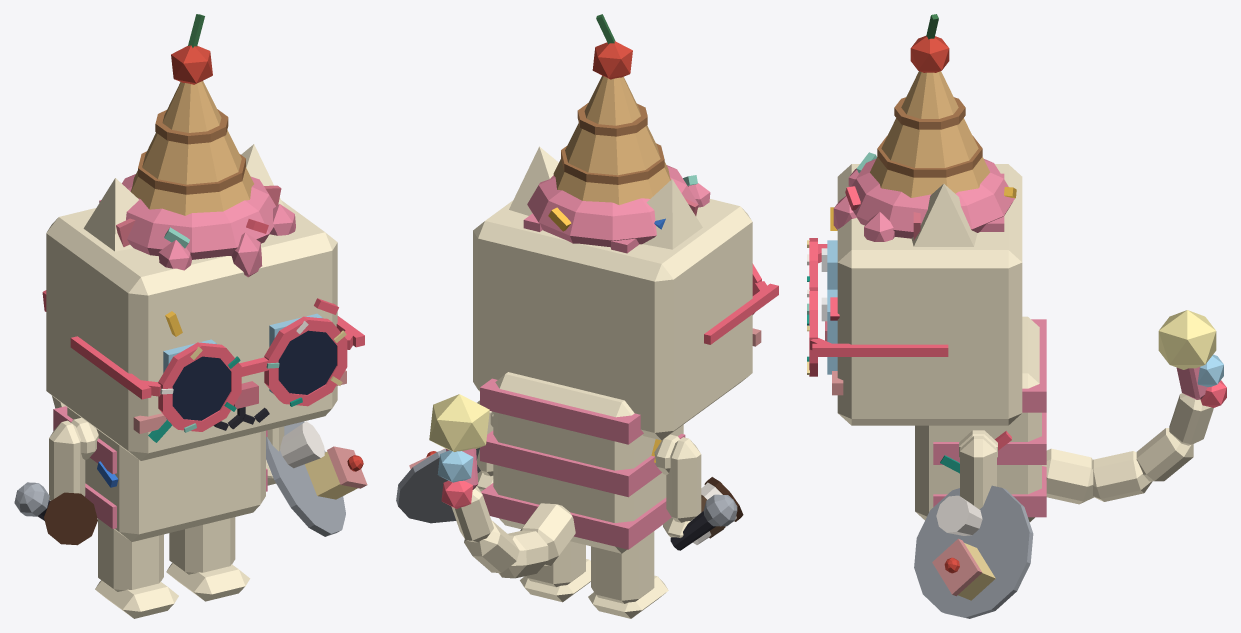
The model's file is CatCafe_Cat_Comet_Work.glb.
3 views of the same model, side by side, from view 1: azimuth 30°, elevation 25°; view 2: azimuth 150°, elevation 25°; view 3: azimuth 270°, elevation 25° (orthographic). The views are drawn at different scales.
Visible parts, largest first — view 1: CatCafe_Cat_Comet_Work_Head, CatCafe_Cat_Comet_Work_Prop, CatCafe_Cat_Comet_Work_Body, CatCafe_Cat_Comet_Work_Prop2, CatCafe_Cat_Comet_Work_Held_Waiter, CatCafe_Cat_Comet_Work_LegB2, CatCafe_Cat_Comet_Work_LegB1, CatCafe_Cat_Comet_Work_LegF2, CatCafe_Cat_Comet_Work_EarR, CatCafe_Cat_Comet_Work_Held_Barista, CatCafe_Cat_Comet_Work_Held_Entertainer, CatCafe_Cat_Comet_Work_EarL; view 2: CatCafe_Cat_Comet_Work_Head, CatCafe_Cat_Comet_Work_Body, CatCafe_Cat_Comet_Work_Prop, CatCafe_Cat_Comet_Work_Tail, CatCafe_Cat_Comet_Work_LegB2, CatCafe_Cat_Comet_Work_Tail_Glow, CatCafe_Cat_Comet_Work_LegF2, CatCafe_Cat_Comet_Work_Held_Waiter, CatCafe_Cat_Comet_Work_LegB1, CatCafe_Cat_Comet_Work_EarR, CatCafe_Cat_Comet_Work_Held_Entertainer, CatCafe_Cat_Comet_Work_Prop2 (+3 smaller); view 3: CatCafe_Cat_Comet_Work_Head, CatCafe_Cat_Comet_Work_Prop, CatCafe_Cat_Comet_Work_Held_Waiter, CatCafe_Cat_Comet_Work_Body, CatCafe_Cat_Comet_Work_Tail, CatCafe_Cat_Comet_Work_Tail_Glow, CatCafe_Cat_Comet_Work_Prop2, CatCafe_Cat_Comet_Work_EarL, CatCafe_Cat_Comet_Work_LegF1, CatCafe_Cat_Comet_Work_Eye1, CatCafe_Cat_Comet_Work_Eye2.
Boxes of the visible parts, <box> form: CatCafe_Cat_Comet_Work_Head: <box>46,200,346,460</box>; CatCafe_Cat_Comet_Work_Prop: <box>122,14,295,277</box>; CatCafe_Cat_Comet_Work_Body: <box>53,406,267,541</box>; CatCafe_Cat_Comet_Work_Prop2: <box>70,316,364,432</box>; CatCafe_Cat_Comet_Work_Held_Waiter: <box>266,421,367,536</box>; CatCafe_Cat_Comet_Work_LegB2: <box>95,518,178,618</box>; CatCafe_Cat_Comet_Work_LegB1: <box>166,517,250,601</box>; CatCafe_Cat_Comet_Work_LegF2: <box>49,420,85,500</box>; CatCafe_Cat_Comet_Work_EarR: <box>83,178,138,251</box>; CatCafe_Cat_Comet_Work_Held_Barista: <box>44,492,97,545</box>; CatCafe_Cat_Comet_Work_Held_Entertainer: <box>14,482,50,520</box>; CatCafe_Cat_Comet_Work_EarL: <box>241,144,283,206</box>; CatCafe_Cat_Comet_Work_Head: <box>473,199,761,440</box>; CatCafe_Cat_Comet_Work_Body: <box>480,372,685,553</box>; CatCafe_Cat_Comet_Work_Prop: <box>527,14,710,247</box>; CatCafe_Cat_Comet_Work_Tail: <box>446,448,575,578</box>; CatCafe_Cat_Comet_Work_LegB2: <box>588,531,668,618</box>; CatCafe_Cat_Comet_Work_Tail_Glow: <box>429,394,489,508</box>; CatCafe_Cat_Comet_Work_LegF2: <box>663,437,701,537</box>; CatCafe_Cat_Comet_Work_Held_Waiter: <box>396,447,480,523</box>; CatCafe_Cat_Comet_Work_LegB1: <box>520,541,590,602</box>; CatCafe_Cat_Comet_Work_EarR: <box>643,179,702,249</box>; CatCafe_Cat_Comet_Work_Held_Entertainer: <box>670,494,737,550</box>; CatCafe_Cat_Comet_Work_Prop2: <box>704,263,778,344</box>; CatCafe_Cat_Comet_Work_Head: <box>825,164,1022,425</box>; CatCafe_Cat_Comet_Work_Prop: <box>833,14,1016,241</box>; CatCafe_Cat_Comet_Work_Held_Waiter: <box>914,485,1033,618</box>; CatCafe_Cat_Comet_Work_Body: <box>915,316,1046,521</box>; CatCafe_Cat_Comet_Work_Tail: <box>1042,367,1213,504</box>; CatCafe_Cat_Comet_Work_Tail_Glow: <box>1158,310,1226,407</box>; CatCafe_Cat_Comet_Work_Prop2: <box>807,238,948,376</box>; CatCafe_Cat_Comet_Work_EarL: <box>911,184,977,246</box>; CatCafe_Cat_Comet_Work_LegF1: <box>960,436,996,509</box>; CatCafe_Cat_Comet_Work_Eye1: <box>821,289,837,374</box>; CatCafe_Cat_Comet_Work_Eye2: <box>821,240,837,289</box>.
Bounding box in the file's own units: 1.53 × 2.57 × 1.73.
Materials: 1 (1 with a texture image).
